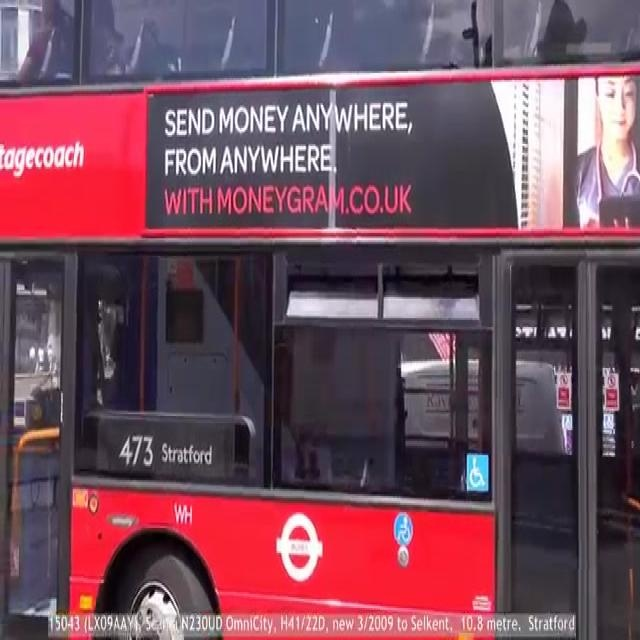Bus: (2, 0, 634, 640)
